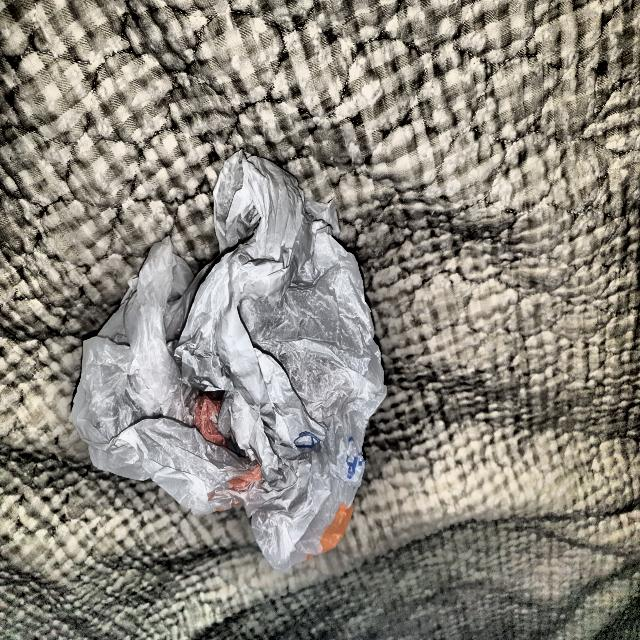plastic bag: (66, 140, 392, 580)
